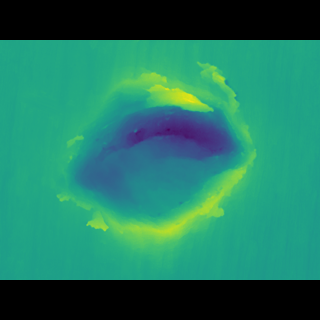Loch: (44, 84, 259, 238)
